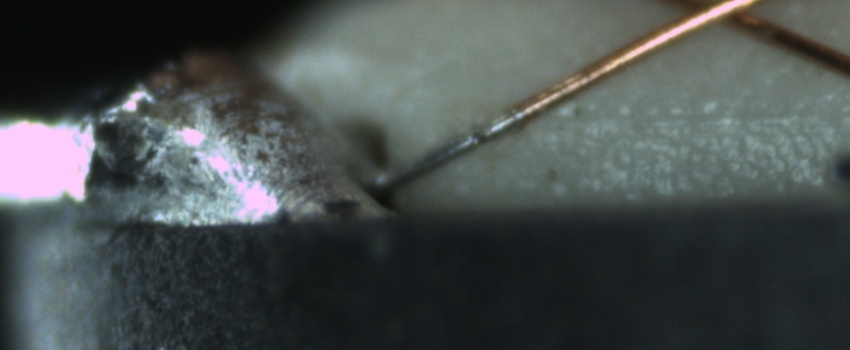CL: (663, 1, 784, 36)
DL: (546, 91, 850, 155)
TS: (381, 109, 521, 188)
